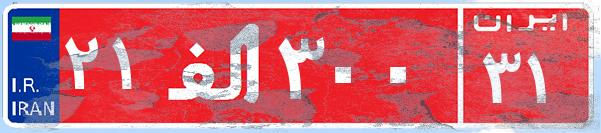0: (385, 28, 445, 110), (330, 28, 385, 110)
1: (110, 28, 158, 105), (525, 38, 570, 115)
2: (57, 26, 110, 107)
3: (273, 28, 330, 110), (475, 38, 525, 113)
الف: (158, 15, 273, 115)
